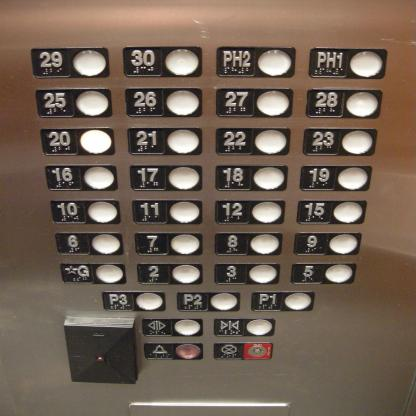10: (48, 196, 123, 226)
11: (130, 198, 204, 228)
12: (213, 197, 288, 225)
15: (296, 197, 368, 227)
16: (42, 164, 120, 192)
17: (128, 162, 205, 193)
18: (213, 162, 289, 193)
19: (298, 162, 375, 194)
2: (135, 262, 205, 286)
20: (38, 125, 116, 157)
21: (126, 124, 206, 157)
22: (213, 124, 292, 157)
23: (302, 125, 378, 159)
25: (33, 85, 115, 120)
26: (123, 84, 205, 118)
27: (212, 86, 294, 119)
28: (305, 86, 384, 120)
29: (29, 44, 110, 80)
3: (213, 260, 281, 287)
30: (122, 44, 204, 78)
5: (290, 261, 360, 287)
6: (54, 230, 126, 256)
7: (134, 230, 204, 258)
8: (214, 230, 284, 257)
9: (294, 230, 363, 258)
P1: (249, 289, 316, 314)
P2: (176, 290, 241, 311)
P3: (100, 290, 167, 312)
PH1: (307, 46, 389, 80)
PH2: (214, 43, 298, 81)
alarm: (143, 339, 205, 362)
close: (212, 316, 277, 339)
open: (140, 315, 206, 339)
sG: (58, 262, 128, 287)
stop: (211, 341, 276, 361)
